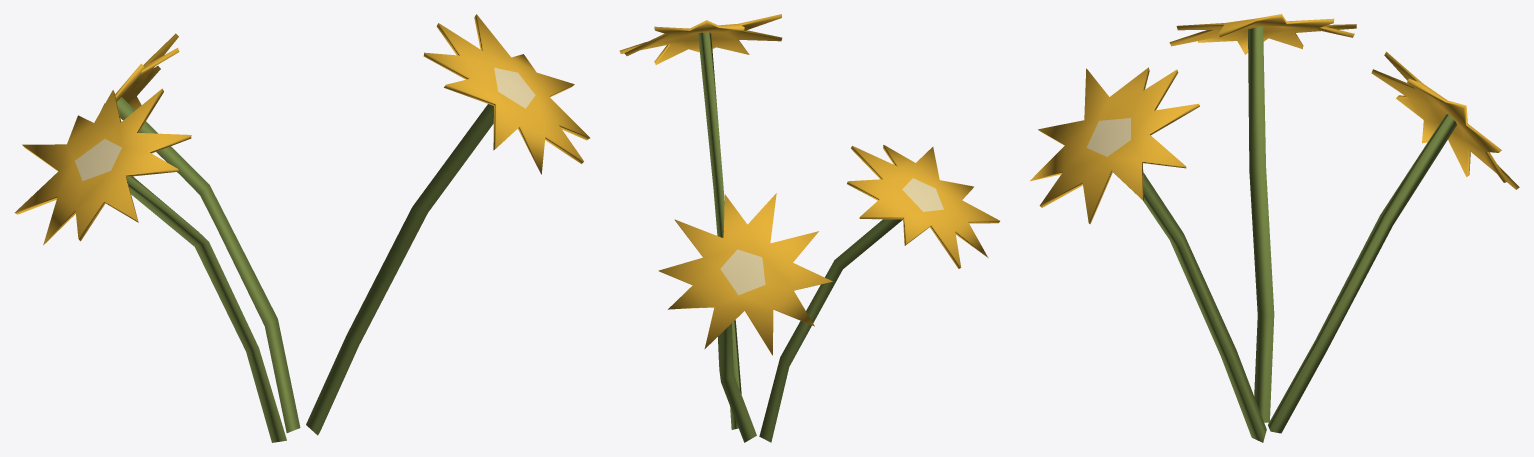
Rendered from rpgpp_ag_flower_04a 1.fbx.
The picture shows the model from 3 angles, left to right: view 1: azimuth 30°, elevation 25°; view 2: azimuth 150°, elevation 25°; view 3: azimuth 270°, elevation 25°; orthographic projection. The views are drawn at different scales.
Visible parts, largest first — view 1: rpgpp_ag_flower_04a; view 2: rpgpp_ag_flower_04a; view 3: rpgpp_ag_flower_04a.
Boxes of the visible parts, x1,y1,x2,y2 form: rpgpp_ag_flower_04a: [14, 14, 589, 442]; rpgpp_ag_flower_04a: [619, 14, 999, 442]; rpgpp_ag_flower_04a: [1030, 14, 1519, 442].
Bounding box in the file's own units: 1.11 × 0.9421 × 1.02.
